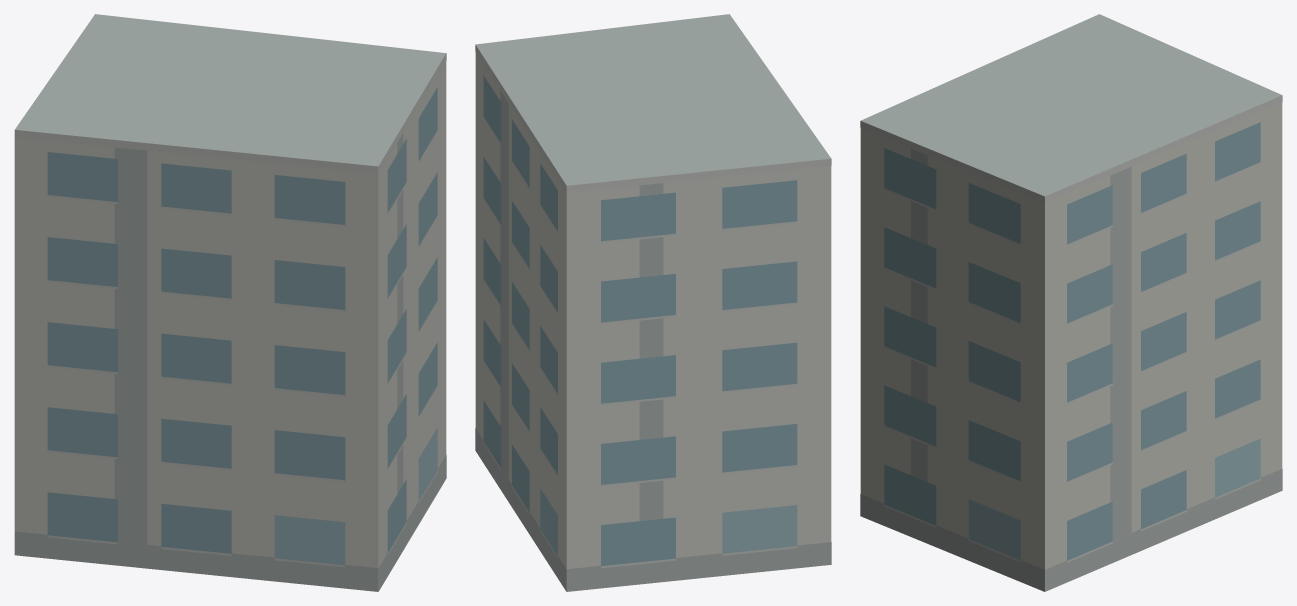
The model's file is survey-upis-32949463.glb.
The picture shows the model from 3 angles, left to right: view 1: azimuth 30°, elevation 25°; view 2: azimuth 150°, elevation 25°; view 3: azimuth 270°, elevation 25°; orthographic projection. The views are drawn at different scales.
Visible parts, largest first — view 1: survey-upis-32949463.tmp; view 2: survey-upis-32949463.tmp; view 3: survey-upis-32949463.tmp.
Part boxes in pixels (x1,y1,x2,y2): survey-upis-32949463.tmp: [14, 14, 446, 591]; survey-upis-32949463.tmp: [475, 14, 831, 591]; survey-upis-32949463.tmp: [860, 14, 1282, 591].
Size of the model in its own units: 13.66 by 13.8 by 13.36.
